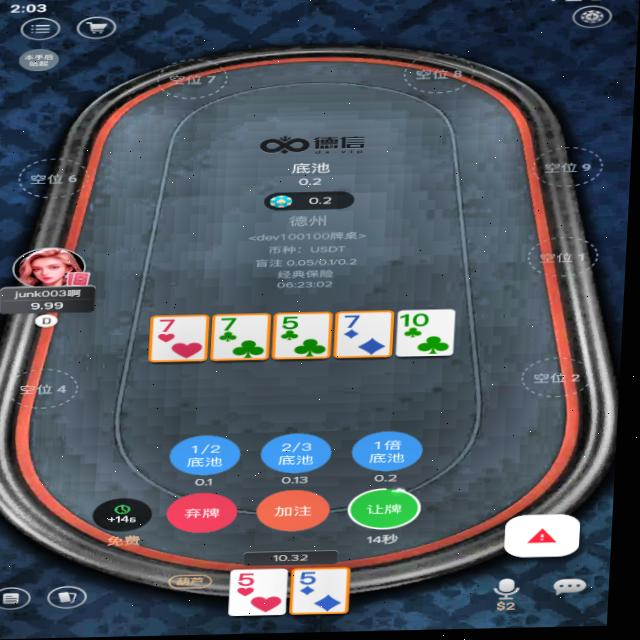10m: (402, 314, 436, 331)
5f: (301, 572, 329, 589)
5h: (240, 573, 268, 589)
5m: (281, 315, 310, 333)
7f: (344, 315, 368, 331)
7h: (159, 319, 186, 335)
7m: (218, 317, 245, 333)
